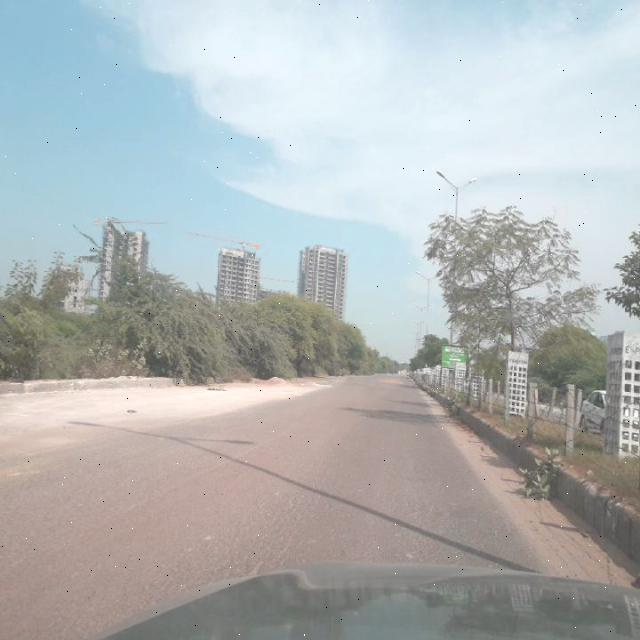D00: (102, 406, 318, 522)
D20: (1, 418, 506, 602)
